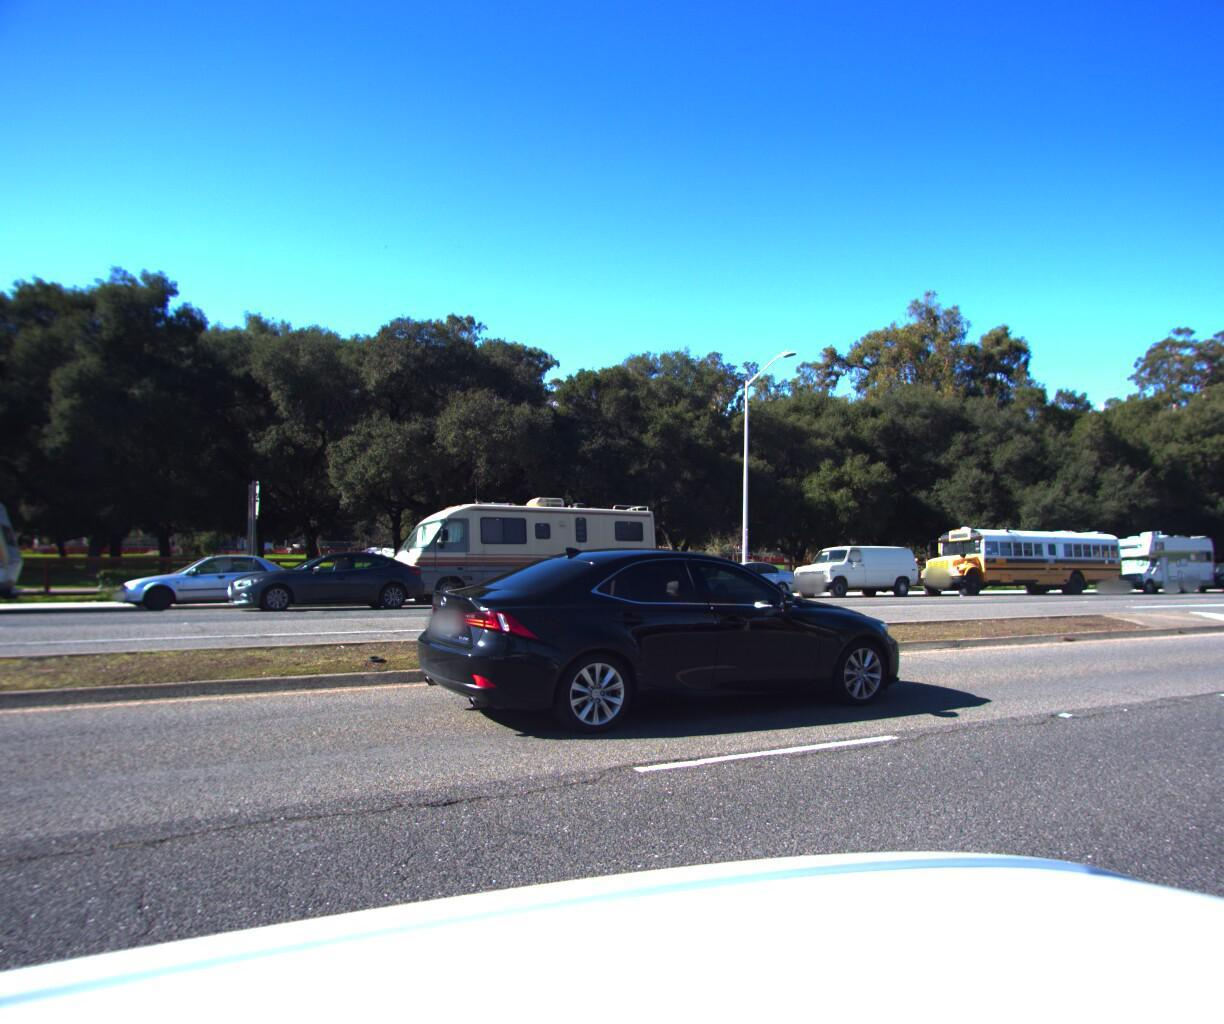bus: (905, 517, 1126, 593)
car: (409, 544, 929, 751), (215, 547, 432, 612), (111, 549, 316, 614), (785, 538, 924, 594), (673, 556, 808, 599), (1188, 554, 1224, 589)
other_vehicle: (367, 481, 668, 605), (1091, 520, 1219, 590), (0, 470, 30, 625)
